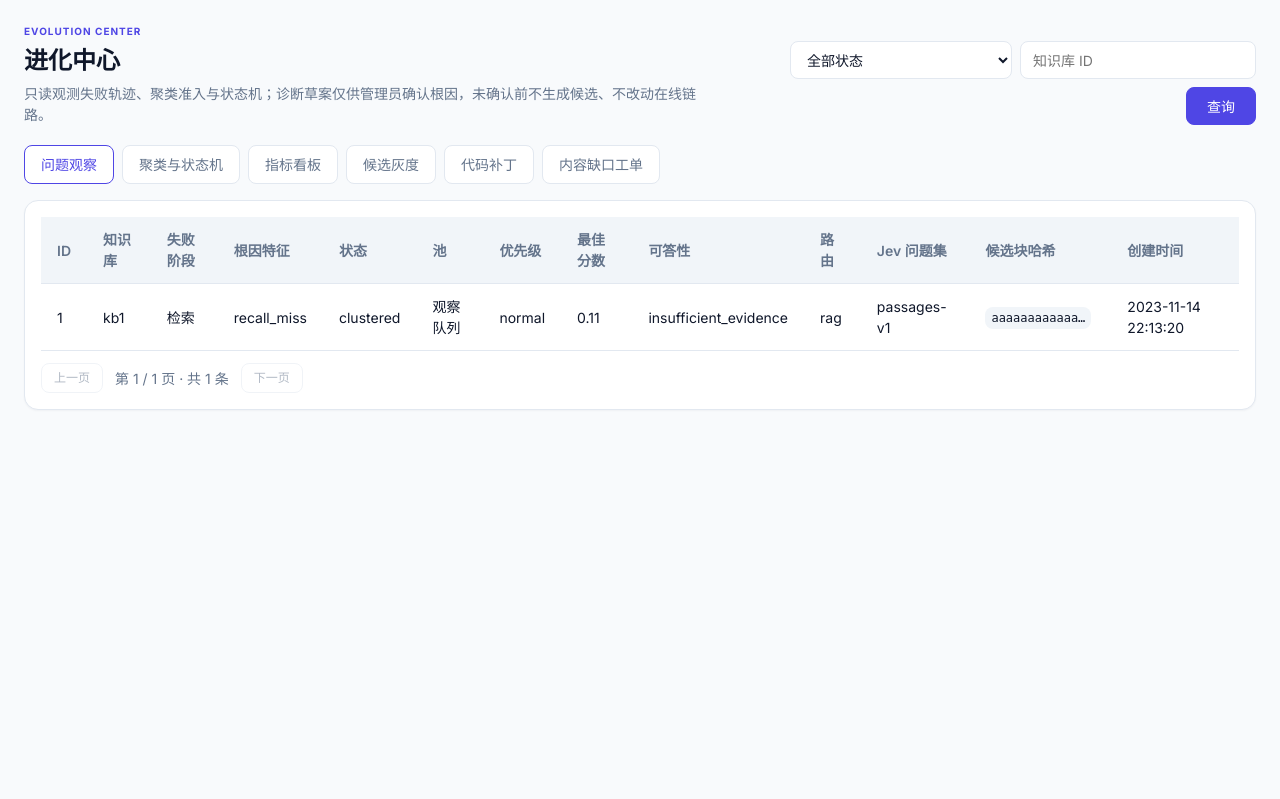
Test: EvolutionCenterView member-draft review › requests the diagnosis of the selected cluster
Click the button with test id "tab-clusters".
click(181, 164)  # box [122, 145, 240, 184]
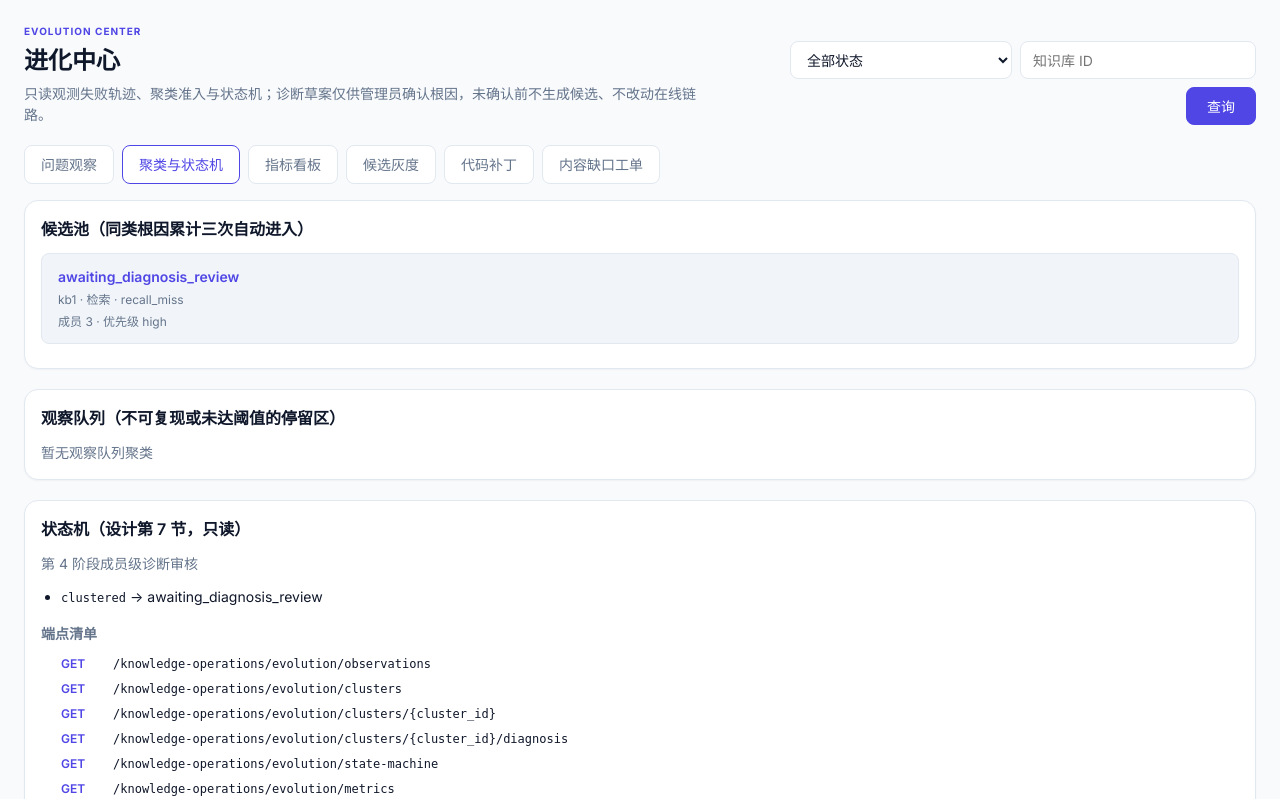
Click the button with test id "cluster-card".
click(149, 276)  # box [41, 253, 1239, 344]
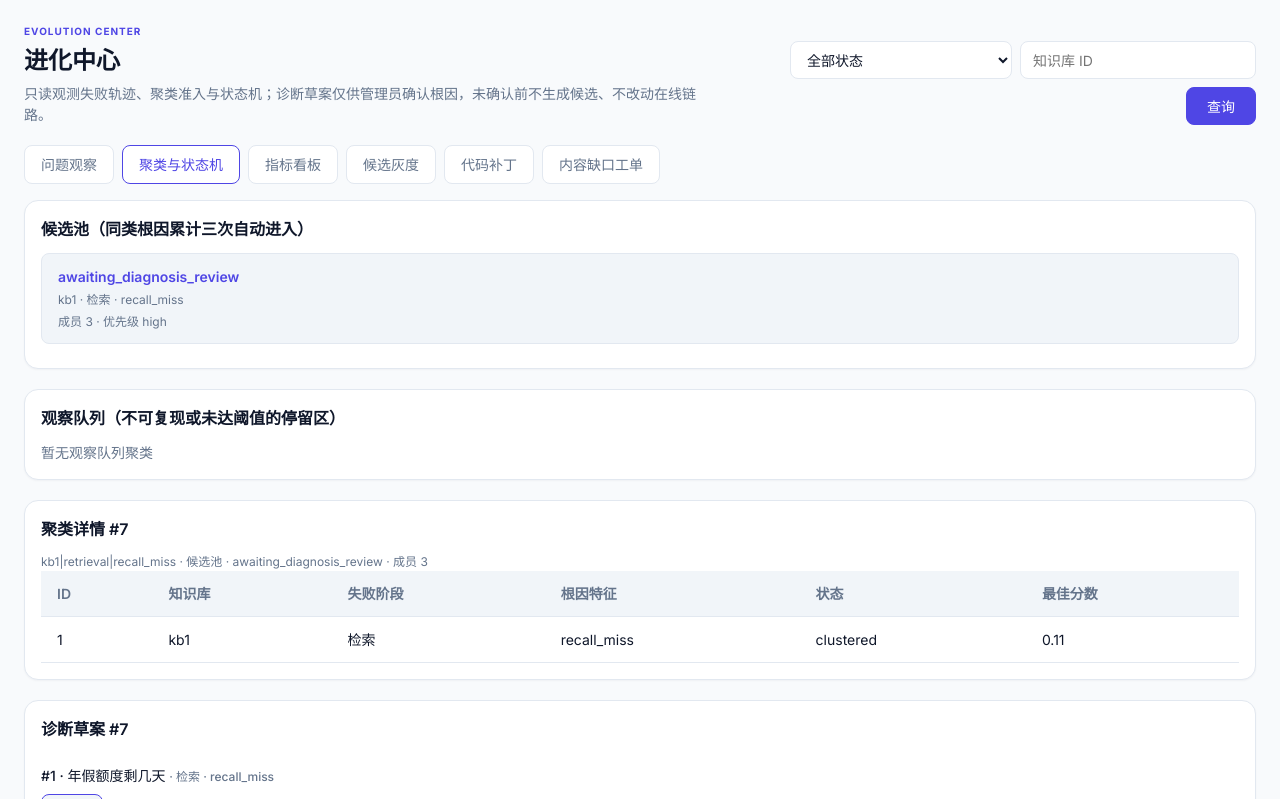
Check: the element with test id "cluster-detail" shows "awaiting_diagnosis_review", box [41, 554, 428, 569]
